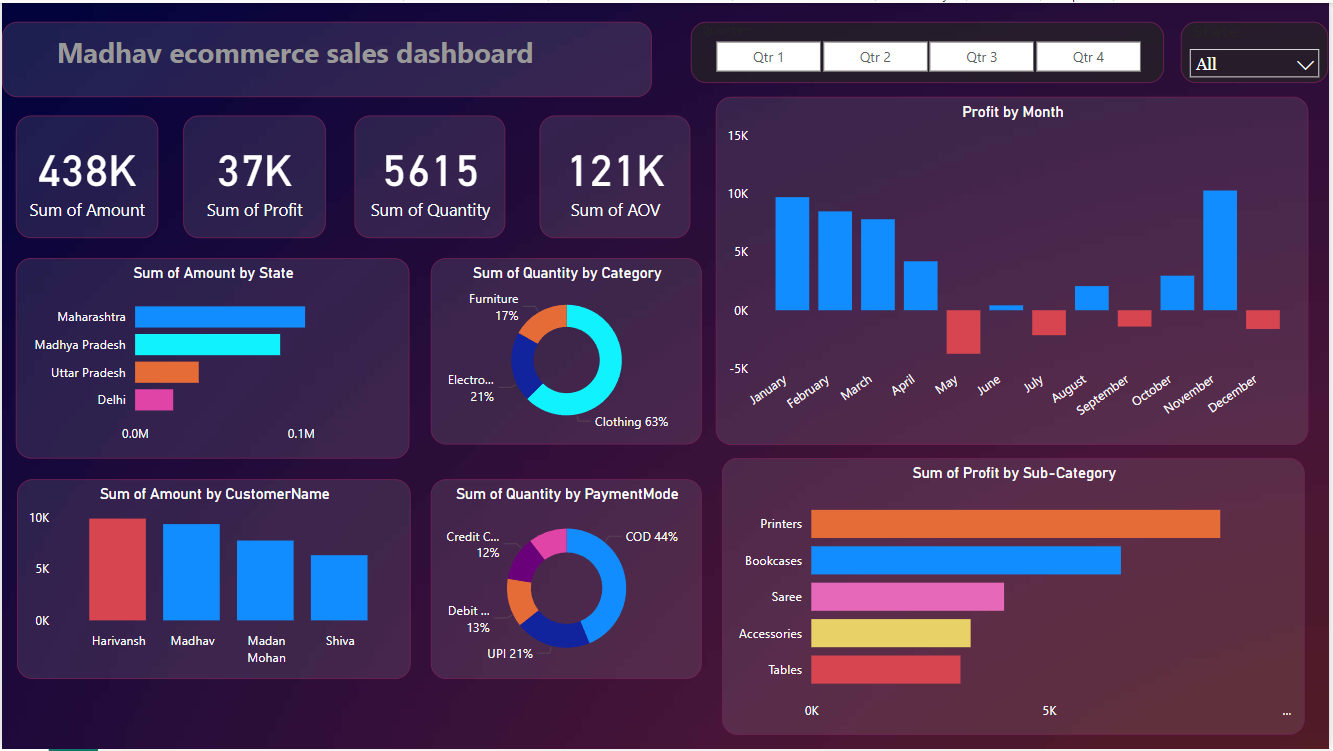

This screenshot's page, from the dashboard's own definition file:
{"tool":"powerbi","page":{"name":"Page 1","canvas":[1280,720],"ordinal":0},"visuals":[{"type":"textbox","box":[0,17.8,627.1,72.7],"z":0},{"type":"columnChart","title":"Profit by Month","fields":{"Category":["Orders.Order Date.Variation.Date Hierarchy.Month"],"Y":["Details.Profit"]},"box":[688.9,90.6,572.2,336.2],"z":1000},{"type":"barChart","fields":{"Category":["Details.Sub-Category"],"Y":["Details.Profit"]},"box":[694.3,439.1,562.6,267.6],"z":2000},{"type":"donutChart","fields":{"Category":["Details.Category"],"Y":["Details.Quantity"]},"box":[413.8,246.1,261.8,179.8],"z":3000},{"type":"donutChart","fields":{"Y":["Details.Quantity"],"Category":["Details.PaymentMode"]},"box":[413.8,459.7,261.8,193],"z":4000},{"type":"card","fields":{"Values":["Details.Amount"]},"box":[13.3,108.6,137.5,118.2],"z":5000},{"type":"card","fields":{"Values":["Details.Profit"]},"box":[174.9,108.6,137.5,118.2],"z":6000},{"type":"card","fields":{"Values":["Details.Quantity"]},"box":[340.2,108.6,146,118.2],"z":7000},{"type":"card","fields":{"Values":["Details.AOV"]},"box":[518.8,108.6,146,118.2],"z":8000},{"type":"barChart","fields":{"Category":["Orders.State"],"Y":["Details.Amount"]},"box":[13.7,245.6,380.1,193.5],"z":9000},{"type":"columnChart","fields":{"Category":["Orders.CustomerName"],"Y":["Details.Amount"]},"box":[14,460,380,193],"z":9001},{"type":"slicer","fields":{"Values":["Orders.Order Date.Variation.Date Hierarchy.Quarter"]},"box":[664.2,17.8,456.9,59],"z":9002},{"type":"slicer","fields":{"Values":["Orders.State"]},"box":[1137.6,17.8,142.7,59],"z":9003}]}

Visuals, with their boxes in screenshot pixels (x1, y1, x2, y2), scaled from the page's 1280x720 canvas onto the 1333x751 screenshot:
textbox: BBox(0, 19, 653, 94)
"Profit by Month" columnChart: BBox(717, 95, 1313, 445)
barChart - Details.Sub-Category x Details.Profit: BBox(723, 458, 1309, 737)
donutChart - Details.Category x Details.Quantity: BBox(431, 257, 704, 444)
donutChart - Details.Quantity x Details.PaymentMode: BBox(431, 479, 704, 681)
card - Details.Amount: BBox(14, 113, 157, 237)
card - Details.Profit: BBox(182, 113, 325, 237)
card - Details.Quantity: BBox(354, 113, 506, 237)
card - Details.AOV: BBox(540, 113, 692, 237)
barChart - Orders.State x Details.Amount: BBox(14, 256, 410, 458)
columnChart - Orders.CustomerName x Details.Amount: BBox(15, 480, 410, 681)
slicer - Orders.Order Date.Variation.Date Hierarchy.Quarter: BBox(692, 19, 1168, 80)
slicer - Orders.State: BBox(1185, 19, 1332, 80)
